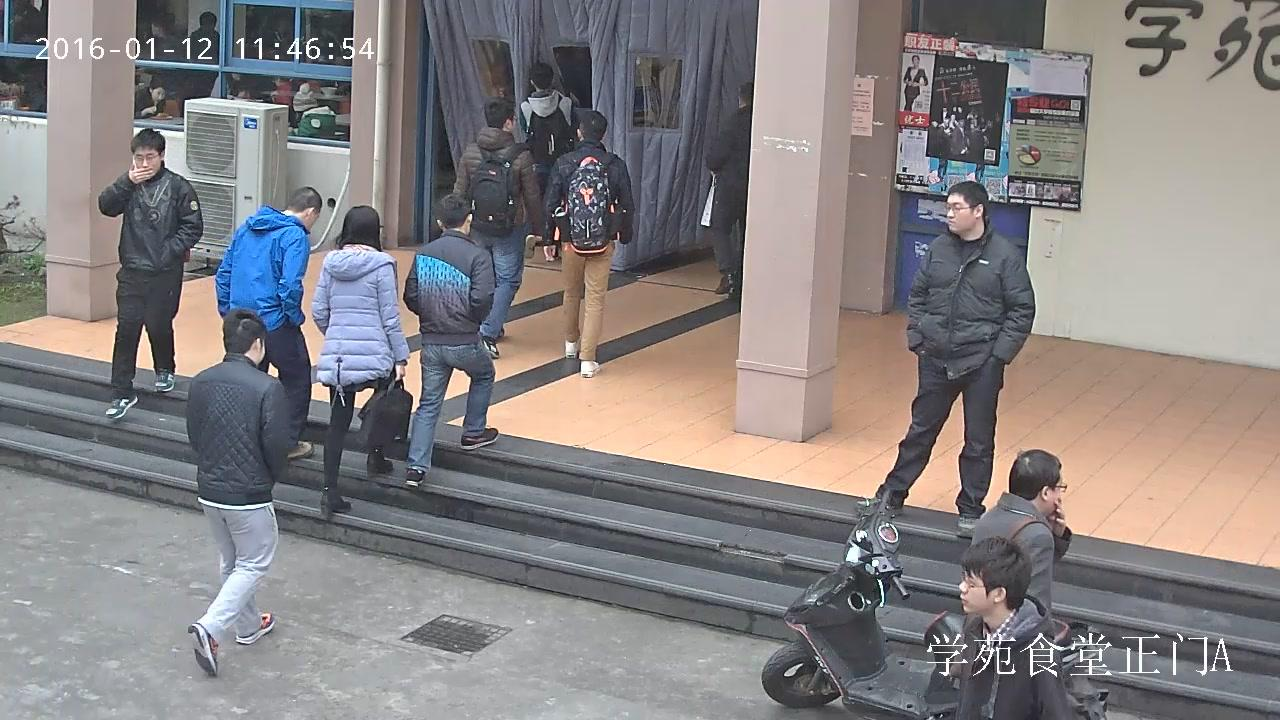person: (854, 181, 1035, 537), (186, 308, 289, 676), (311, 206, 414, 521), (97, 128, 203, 424), (215, 187, 322, 459), (402, 192, 499, 488), (541, 110, 635, 377), (453, 96, 546, 359), (953, 536, 1072, 720), (970, 447, 1071, 616), (518, 63, 580, 258), (699, 81, 753, 303), (142, 12, 187, 119), (186, 12, 220, 98), (291, 82, 337, 139), (134, 76, 168, 118), (903, 55, 928, 111)
